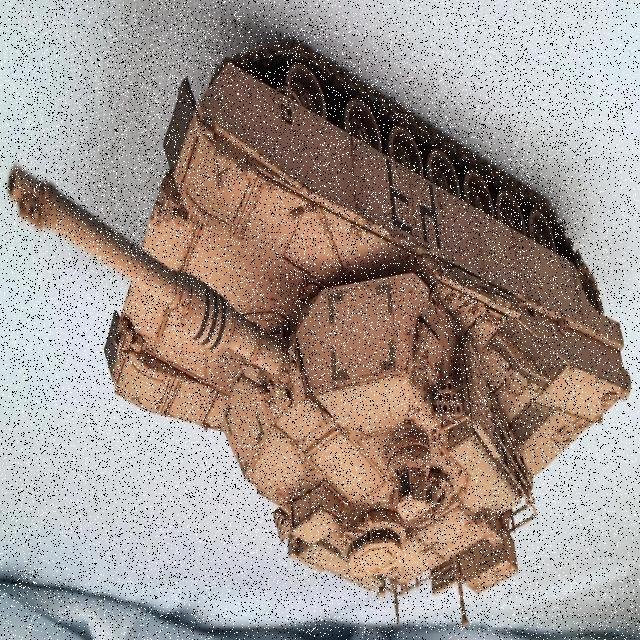MIL_MBT: (10, 22, 576, 620)
